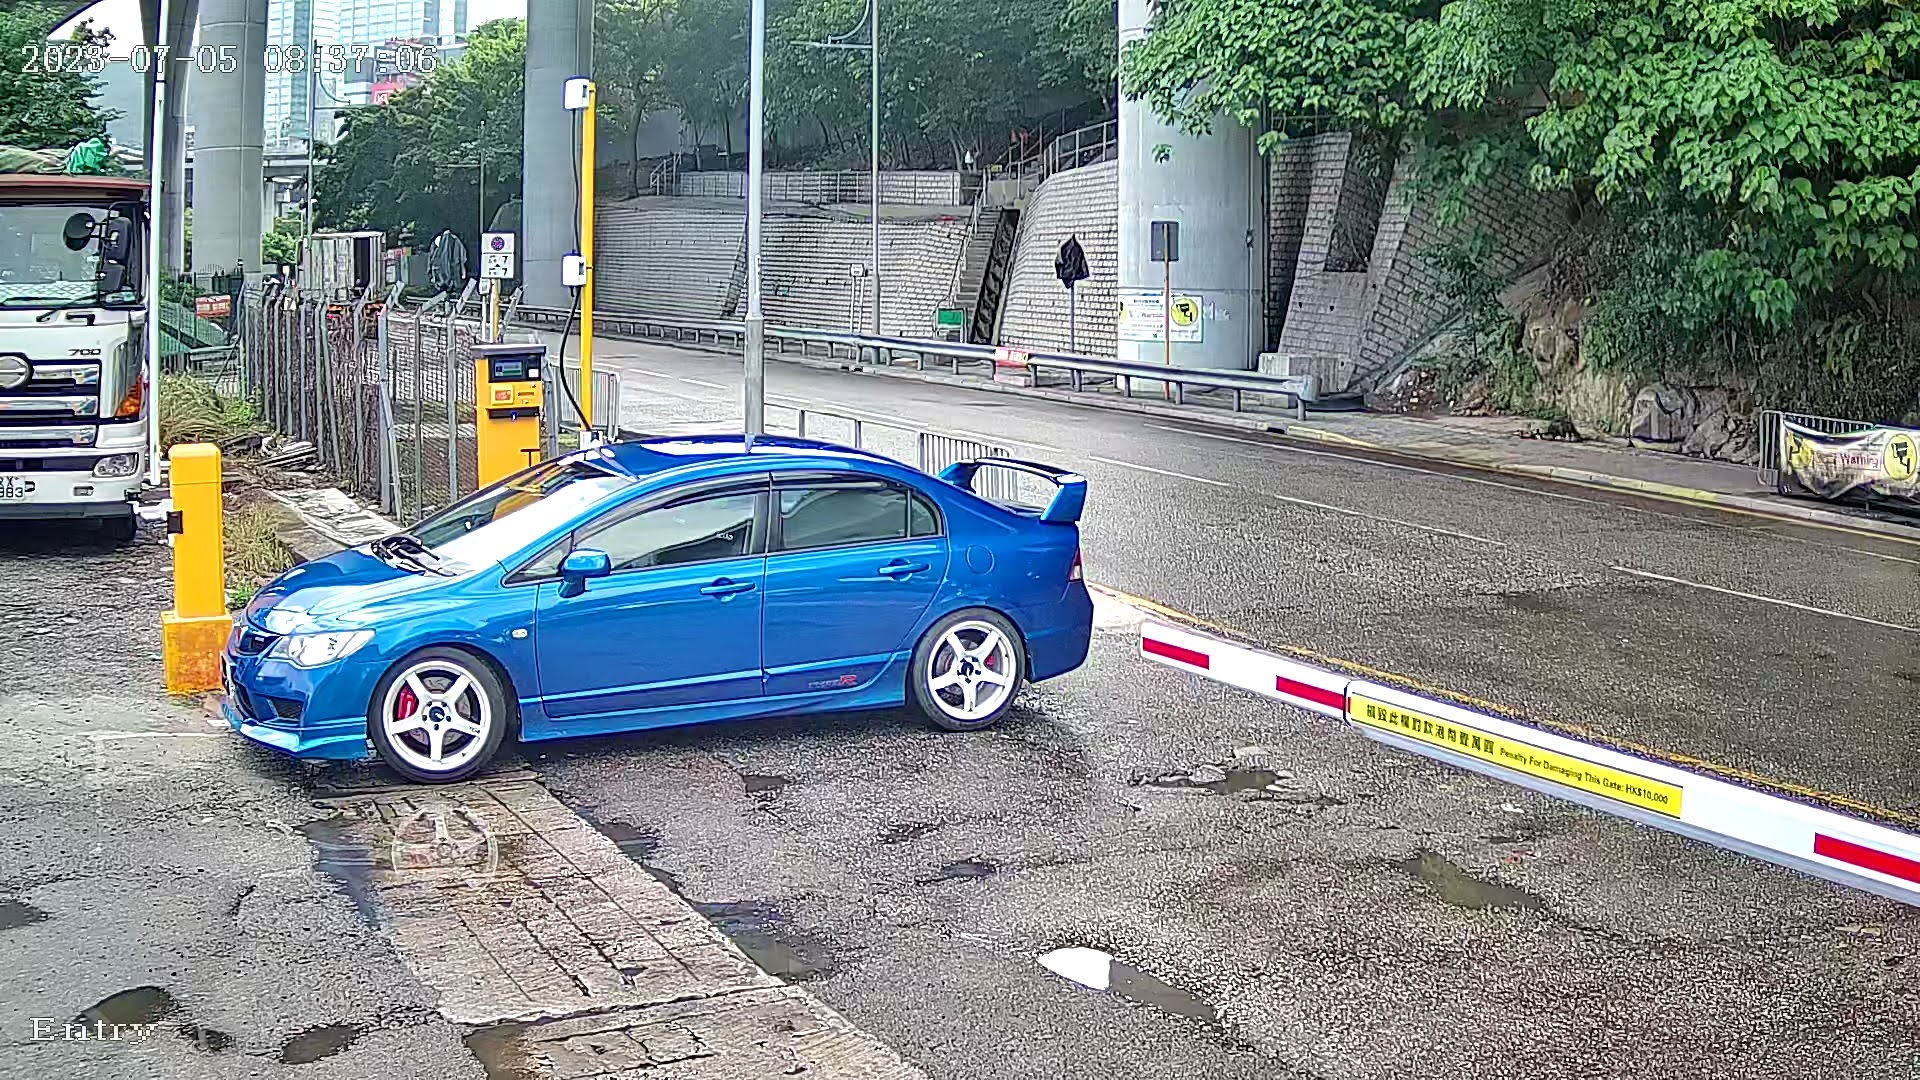privatecar: (193, 402, 1145, 810)
